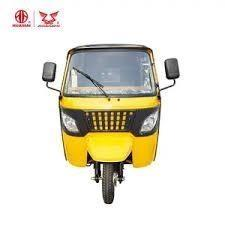keke: (59, 40, 164, 209)
